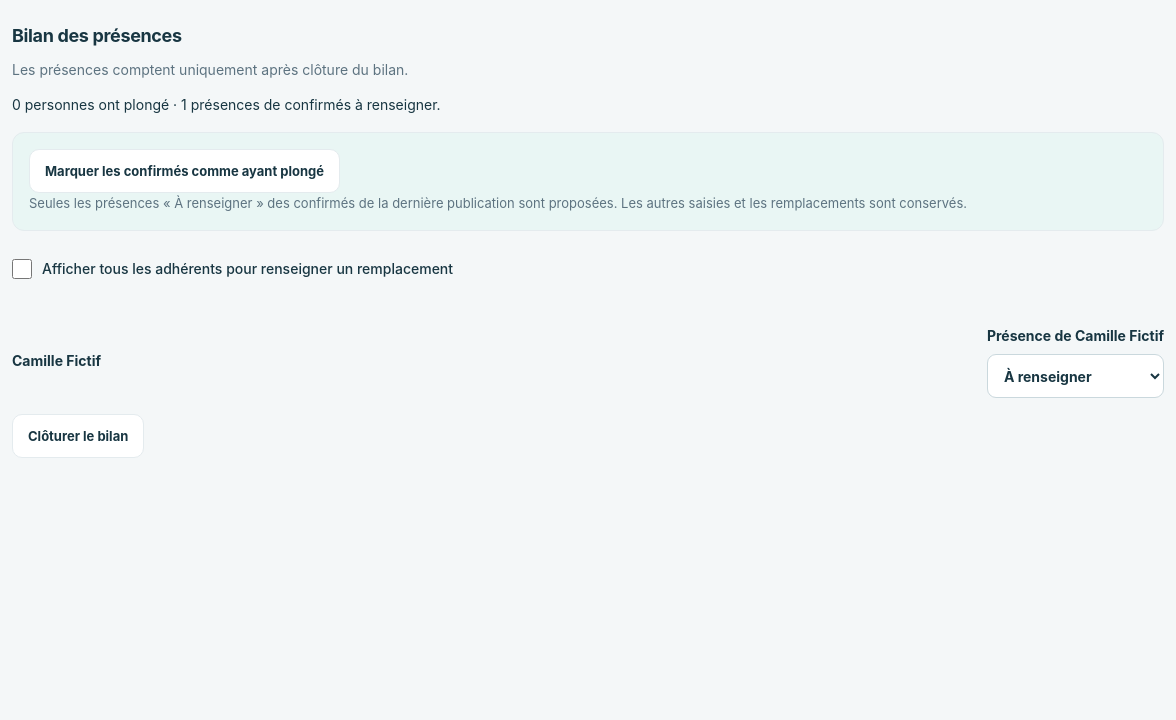
Test: explains a missing batch RPC without opening a confirmation or making a write
The width and height of the screenshot is (1176, 720).
What coordinates should you click on to do the following:
click the button "Marquer les confirmés comme ayant plongé"
I would click on:
 (184, 171)
Its box is [29,149,340,193].
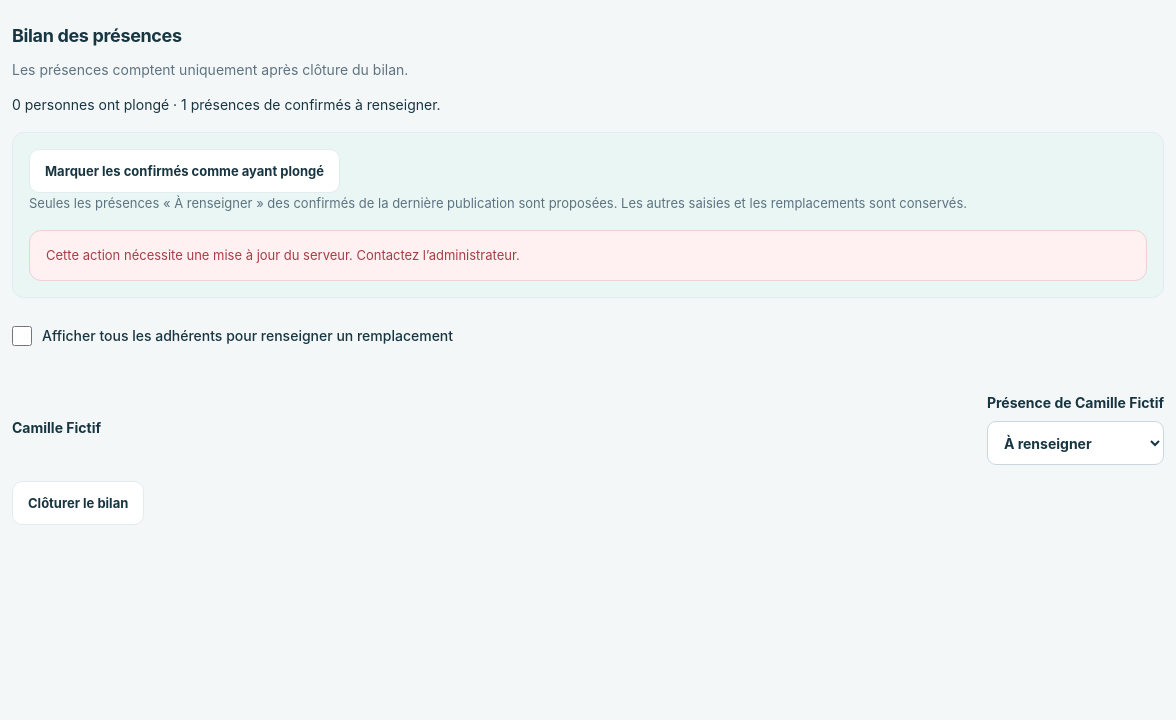
Expected: the message shows "mise à jour du serveur", [46,247,520,263]
